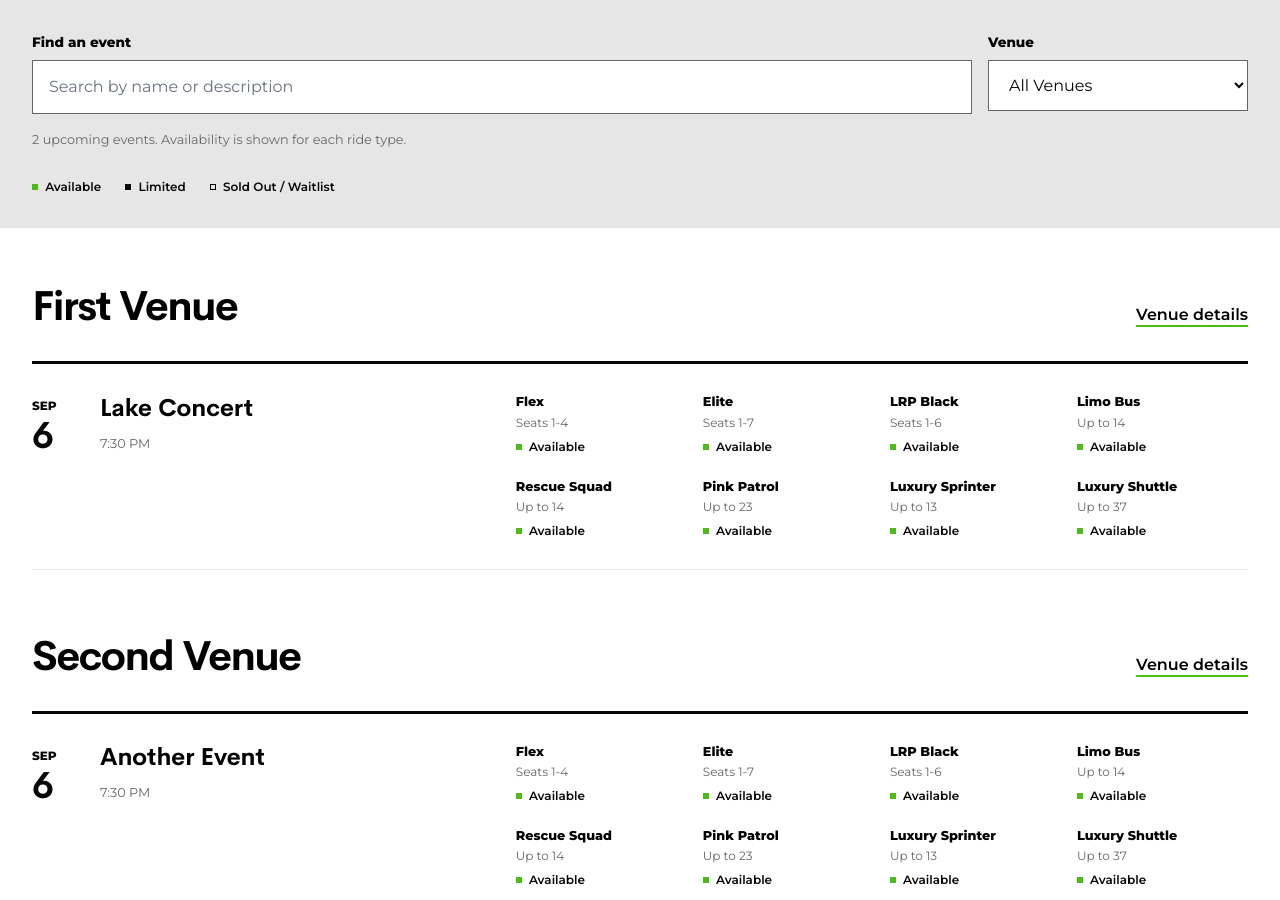
it: editorial event calendar preservation › keeps venue ordering, description search, venue filtering, and reset
The width and height of the screenshot is (1280, 900).
Step 1. Type "lakeside" into the search field labelled "Find an event" → (502, 87), box [32, 60, 972, 114]
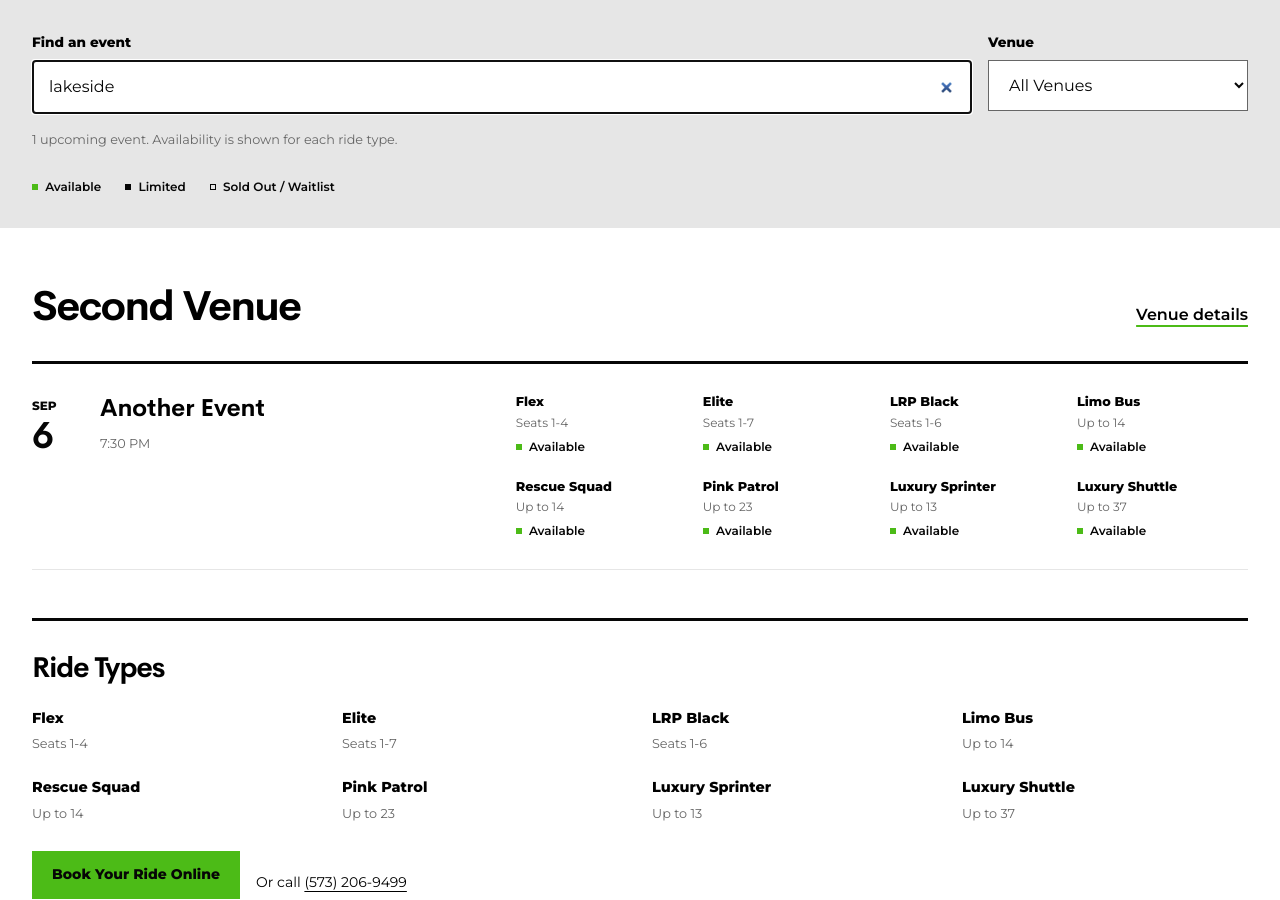
Expected: the link "Another Event" is shown, [100, 392, 265, 425]
Now the link "Lake Concert" is gone
Step 2. Select "First Venue" in the dropdown labelled "Venue" → (1118, 86), box [988, 60, 1248, 111]
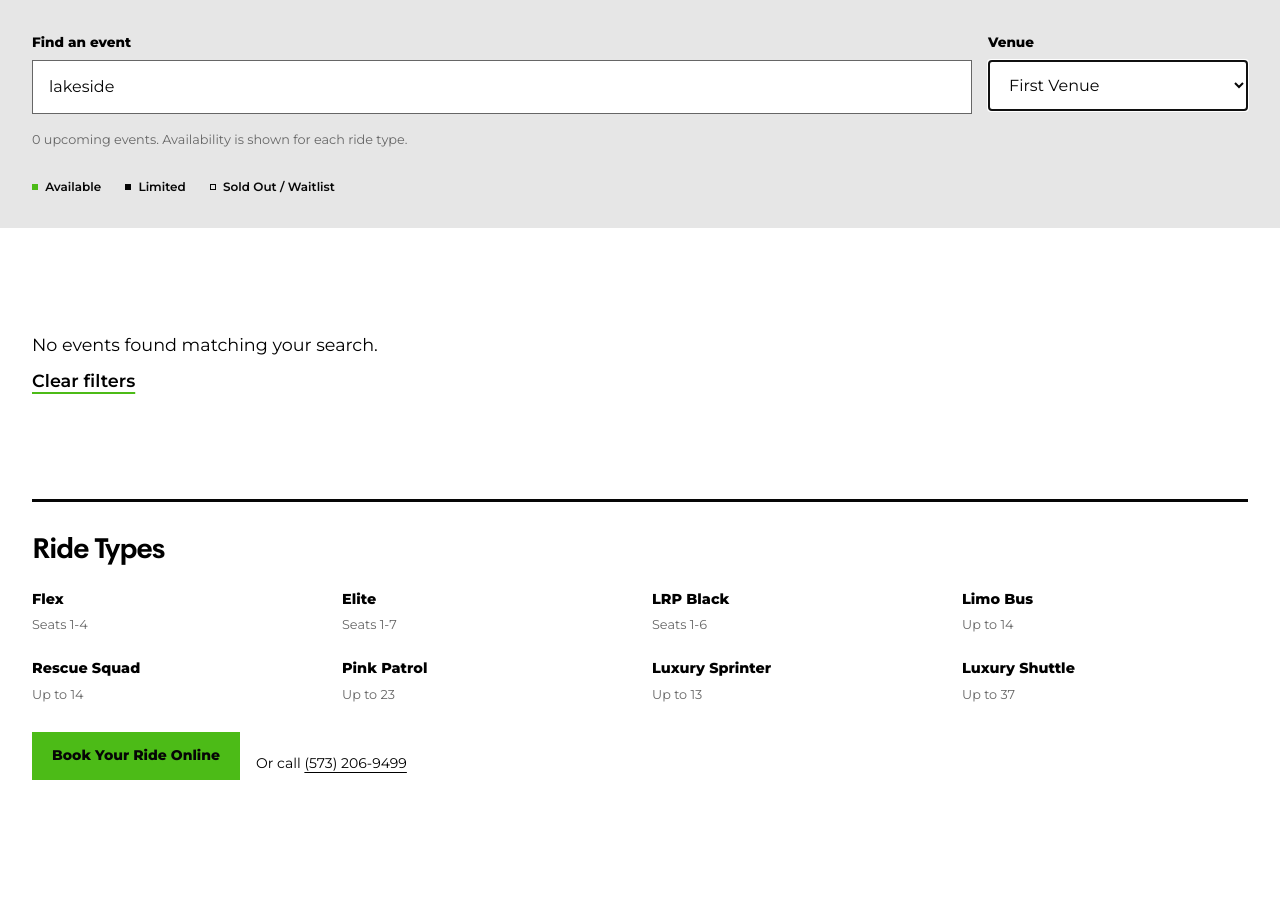
Now the text "No events found matching your search." is shown, box [32, 334, 378, 355]
Step 3. Click the button "Clear filters" → click(84, 381), box [32, 359, 135, 403]
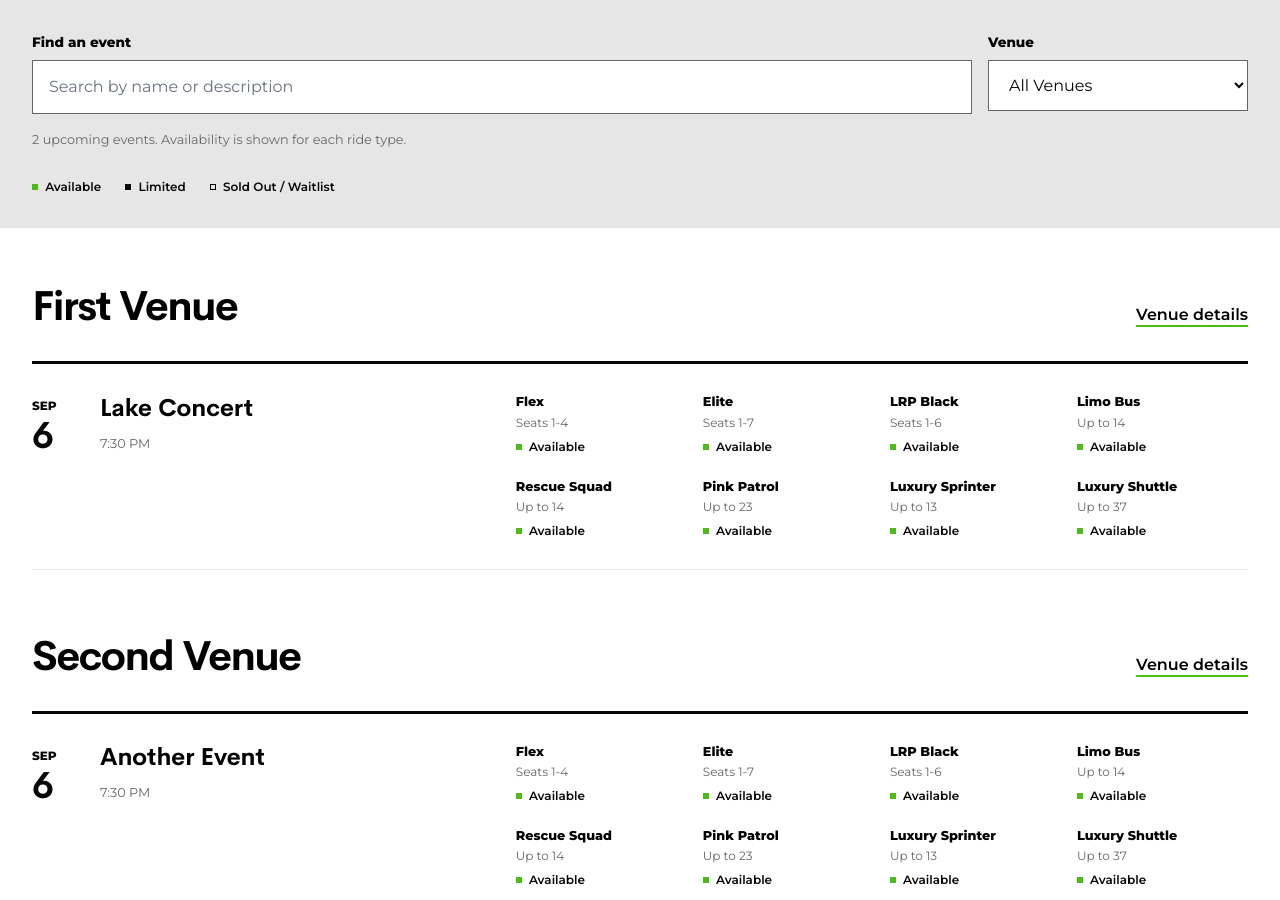
Now the message shows "2 upcoming events", box [32, 132, 406, 147]
